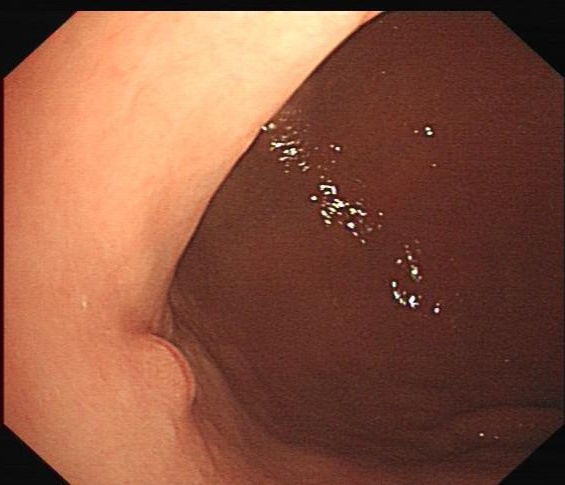Polyp: (107, 311, 211, 430)
